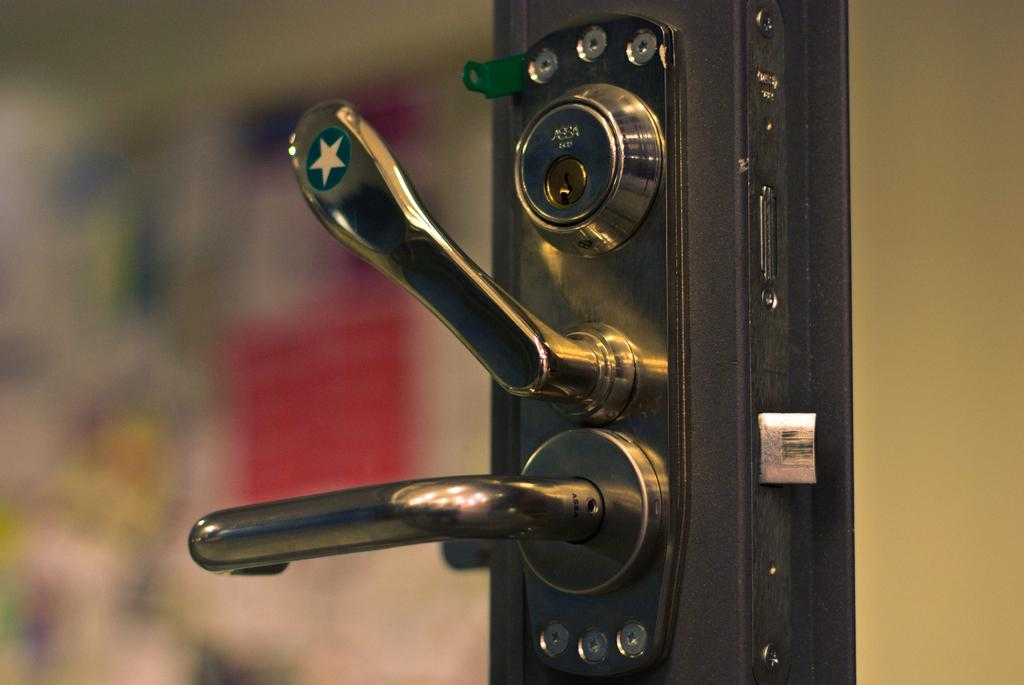handle: (280, 80, 555, 402), (168, 434, 594, 588)
